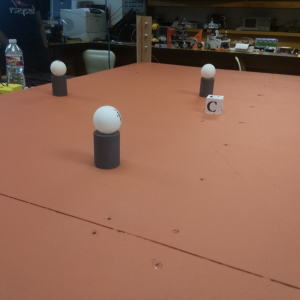blockC: (205, 95, 224, 114)
corner: (138, 17, 152, 61)
obstacle: (94, 105, 119, 164), (50, 62, 67, 96), (198, 65, 214, 99)
